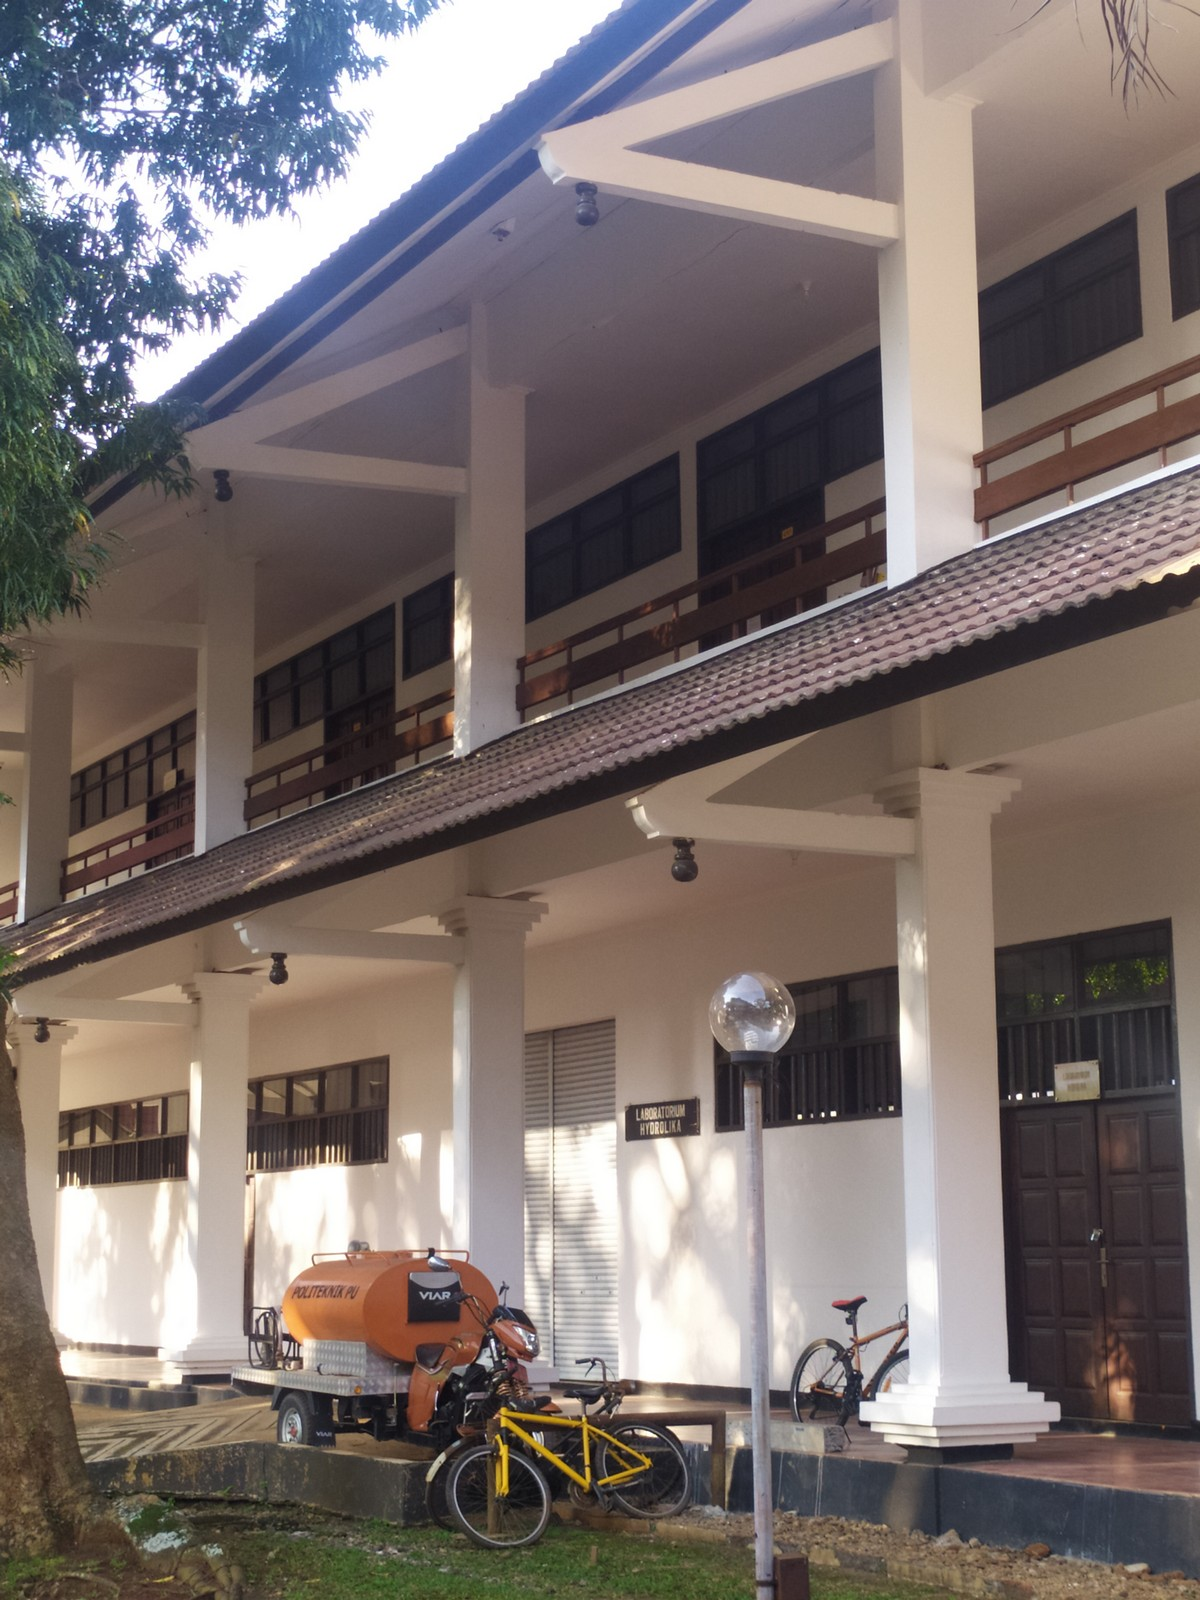concrete beam: (618, 152, 911, 257), (241, 438, 473, 510), (705, 803, 925, 876)
concrete column: (882, 781, 1025, 1422), (865, 24, 995, 588), (441, 317, 537, 769), (444, 927, 536, 1306), (173, 989, 248, 1346), (189, 503, 263, 857)
